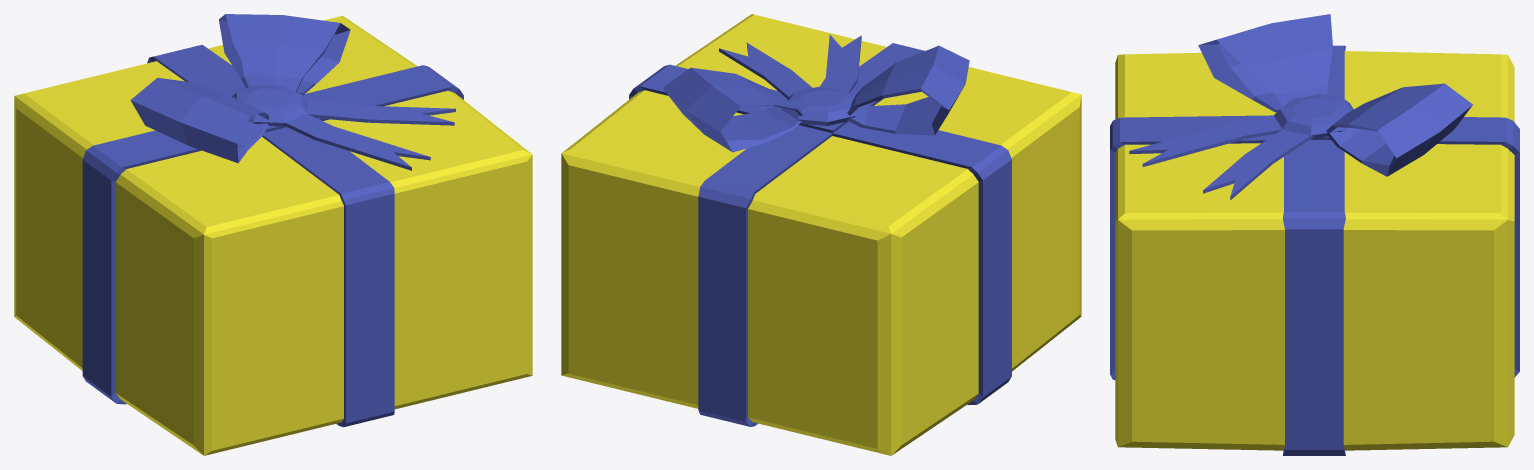
File: present_yellow_blue.fbx
3 views of the same model, side by side, from view 1: azimuth 30°, elevation 25°; view 2: azimuth 150°, elevation 25°; view 3: azimuth 270°, elevation 25° (orthographic). The views are drawn at different scales.
Parts seen in each view (by area): view 1: present_yellow_blue; view 2: present_yellow_blue; view 3: present_yellow_blue.
Boxes of the visible parts, x1,y1,x2,y2 form: present_yellow_blue: [14, 14, 532, 455]; present_yellow_blue: [561, 14, 1081, 455]; present_yellow_blue: [1110, 14, 1519, 455].
Size of the model in its own units: 70.9 by 57.67 by 69.37.
